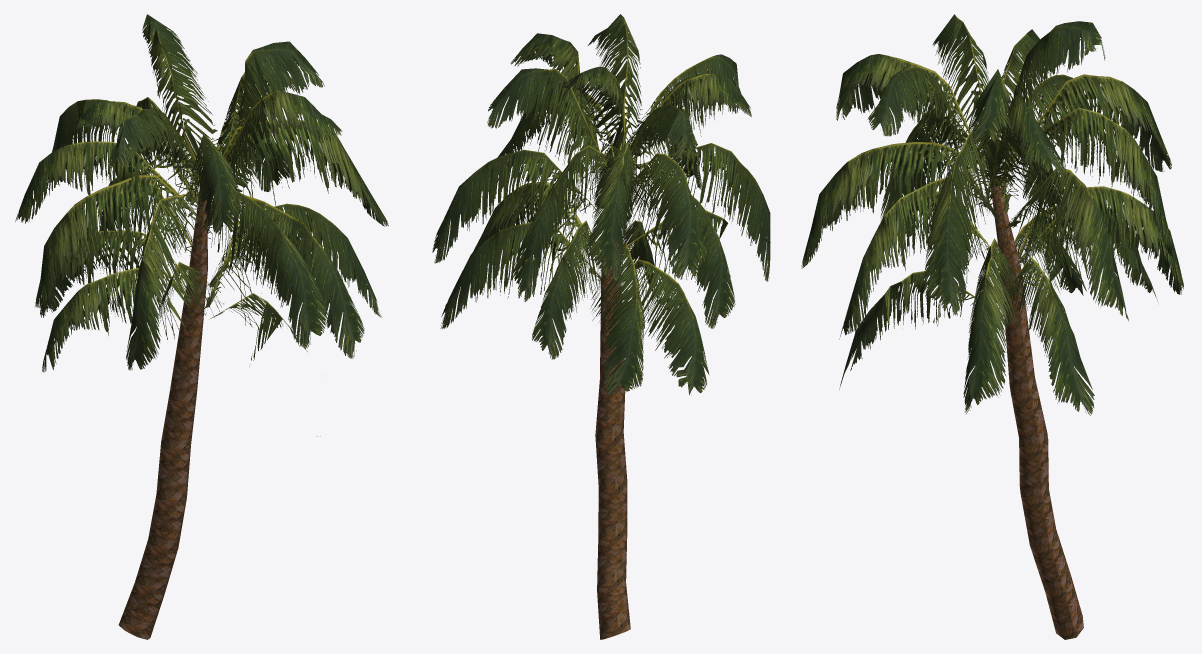
Rendered from Palm2.fbx.
3 renders of one model, left to right at view 1: azimuth 30°, elevation 25°; view 2: azimuth 150°, elevation 25°; view 3: azimuth 270°, elevation 25°, orthographic. The views are drawn at different scales.
Parts seen in each view (by area): view 1: Palm 2; view 2: Palm 2; view 3: Palm 2.
Boxes of the visible parts, x1,y1,x2,y2 form: Palm 2: (15,14,388,639); Palm 2: (432,14,770,639); Palm 2: (801,14,1183,639).
Bounding box in the file's own units: 149 × 274 × 155.
Materials: 2 (2 with a texture image).
